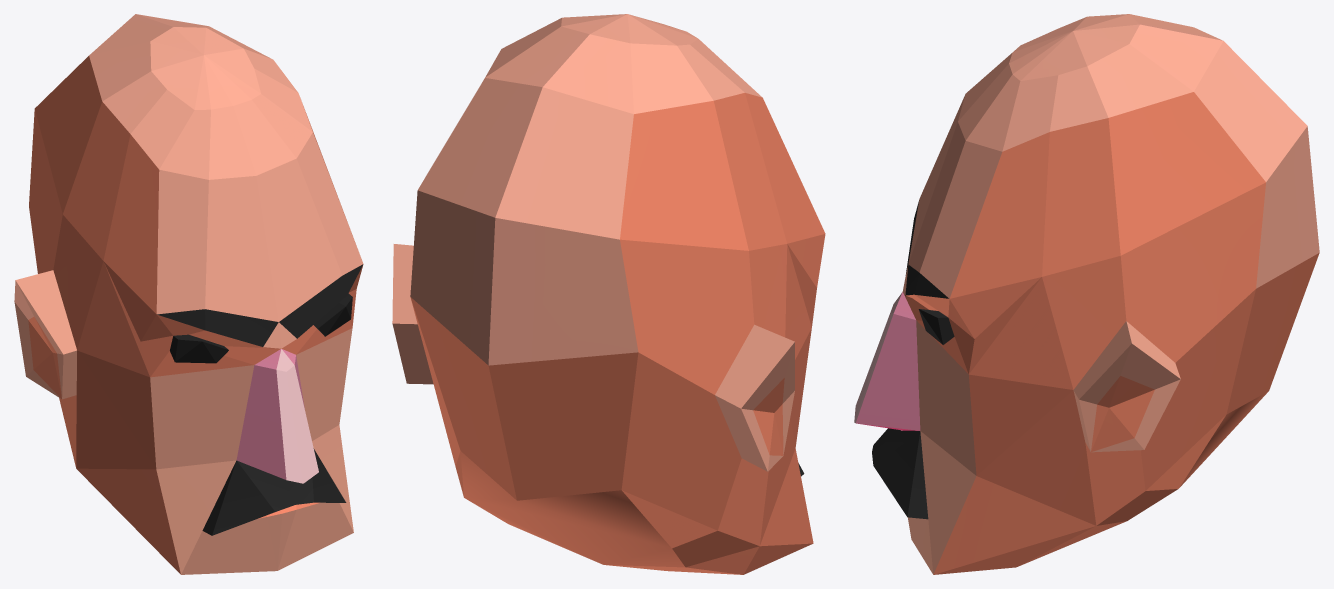
Rendered from HEAD.fbx.
3 views of the same model, side by side, from view 1: azimuth 30°, elevation 25°; view 2: azimuth 150°, elevation 25°; view 3: azimuth 270°, elevation 25° (orthographic). The views are drawn at different scales.
Parts seen in each view (by area): view 1: Cube; view 2: Cube; view 3: Cube.
Boxes of the visible parts, box(x1,y1,x2,y2) form: Cube: box(14, 14, 363, 574); Cube: box(392, 14, 825, 574); Cube: box(854, 14, 1319, 574).
Size of the model in its own units: 77.64 by 110 by 87.94.
